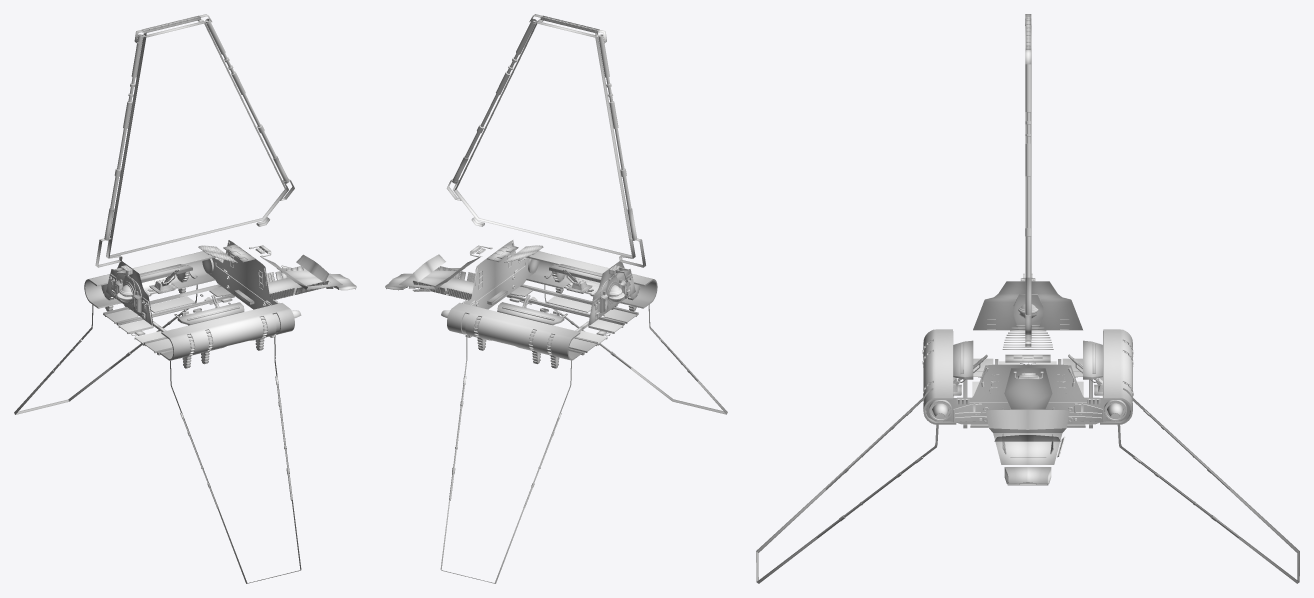
File: chasis.fbx
3 views of the same model, side by side, from view 1: azimuth 30°, elevation 25°; view 2: azimuth 150°, elevation 25°; view 3: azimuth 270°, elevation 25° (orthographic). The views are drawn at different scales.
Visible parts, largest first — view 1: chasis; view 2: chasis; view 3: chasis.
Part boxes in pixels (box(x1,y1,x2,y2)): chasis: box(14, 14, 356, 583); chasis: box(385, 14, 727, 583); chasis: box(756, 14, 1299, 583).
Bounding box in the file's own units: 116 × 204 × 185.
